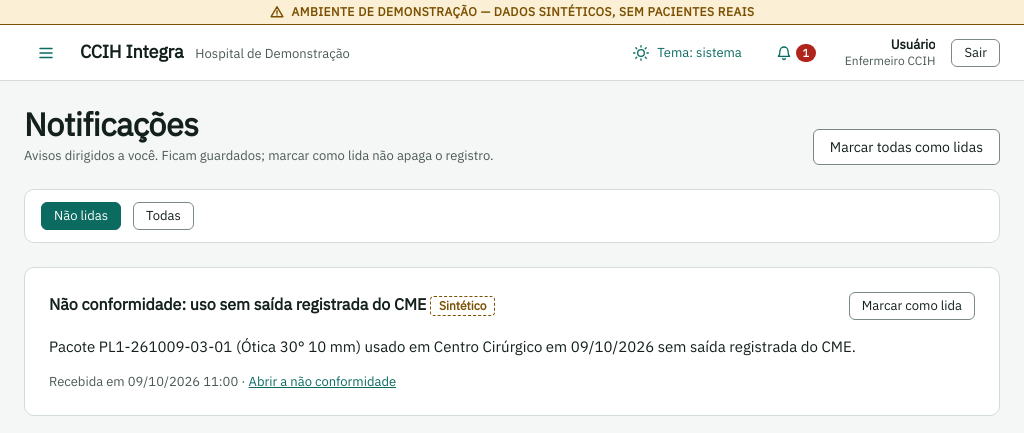
Test: personal notifications › shows the unread count in the header and marks a notification as read
Expected: the link named "Notificações: 1 não lida" is shown, [776,44,816,62]
Expected: the text "usado em Centro Cirúrgico" is shown, [49,337,856,356]
Click the button with aria-label "Marcar como lida:" at (912, 306), box [849,292,975,320]
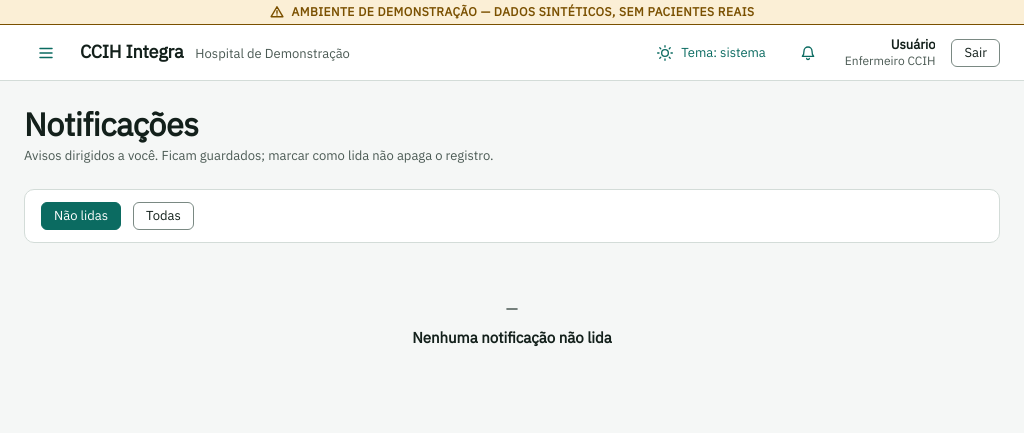
Expected: the link named "Notificações" is shown, [800,44,816,60]
Now the text "Nenhuma notificação não lida" is shown, box [412,327,612,349]
